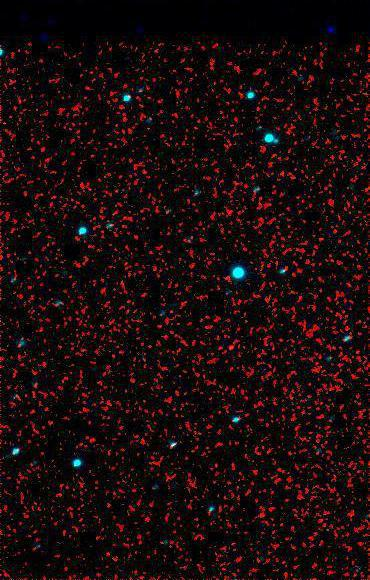star: (216, 334, 246, 364)
